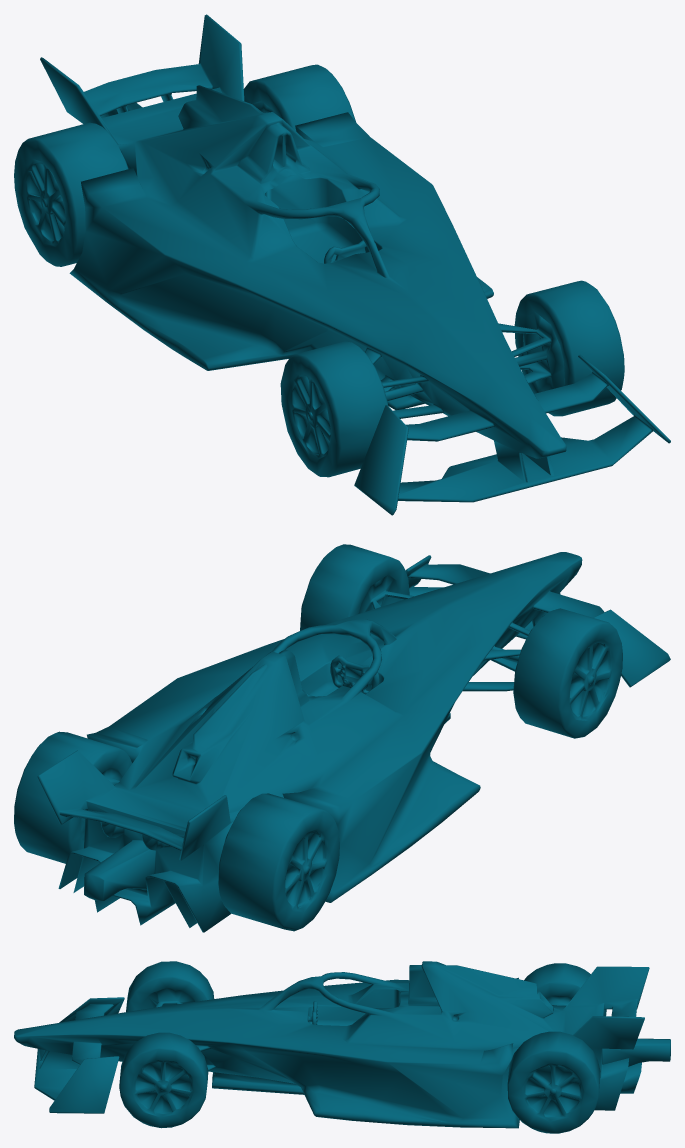
The model's file is carroFEcon.glb.
3 views of the same model, one above another, from view 1: azimuth 30°, elevation 25°; view 2: azimuth 150°, elevation 25°; view 3: azimuth 270°, elevation 25° (orthographic). The views are drawn at different scales.
Visible parts, largest first — view 1: CarE; view 2: CarE; view 3: CarE.
Part boxes in pixels (x1,y1,x2,y2): CarE: (14, 14, 670, 515); CarE: (14, 544, 670, 932); CarE: (14, 961, 670, 1133).
Bounding box in the file's own units: 52.54 × 30.48 × 143.
